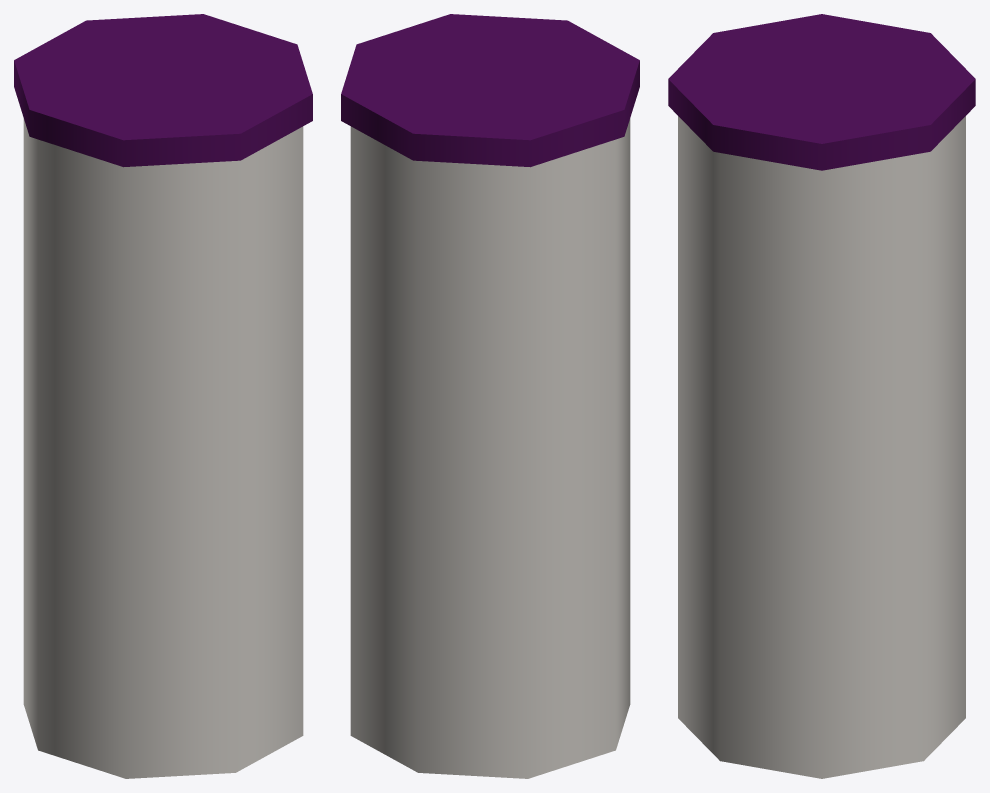
Rendered from Produce_Dingles.fbx.
3 views of the same model, side by side, from view 1: azimuth 30°, elevation 25°; view 2: azimuth 150°, elevation 25°; view 3: azimuth 270°, elevation 25° (orthographic).
Visible parts, largest first — view 1: Cylinder006; view 2: Cylinder006; view 3: Cylinder006.
Boxes of the visible parts, x1=… form: Cylinder006: x1=14, y1=14, x2=312, y2=778; Cylinder006: x1=341, y1=14, x2=639, y2=778; Cylinder006: x1=668, y1=14, x2=975, y2=778.
Bounding box in the file's own units: 6.34 × 14.53 × 6.34.
